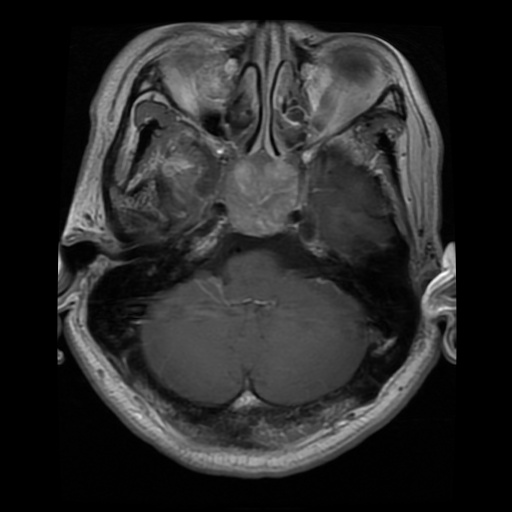pituitary: (224, 160, 297, 235)
